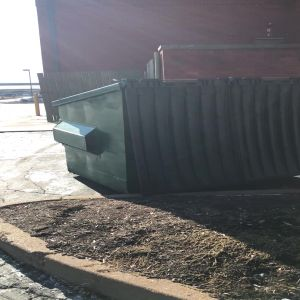Dumpster: (50, 76, 300, 194)
